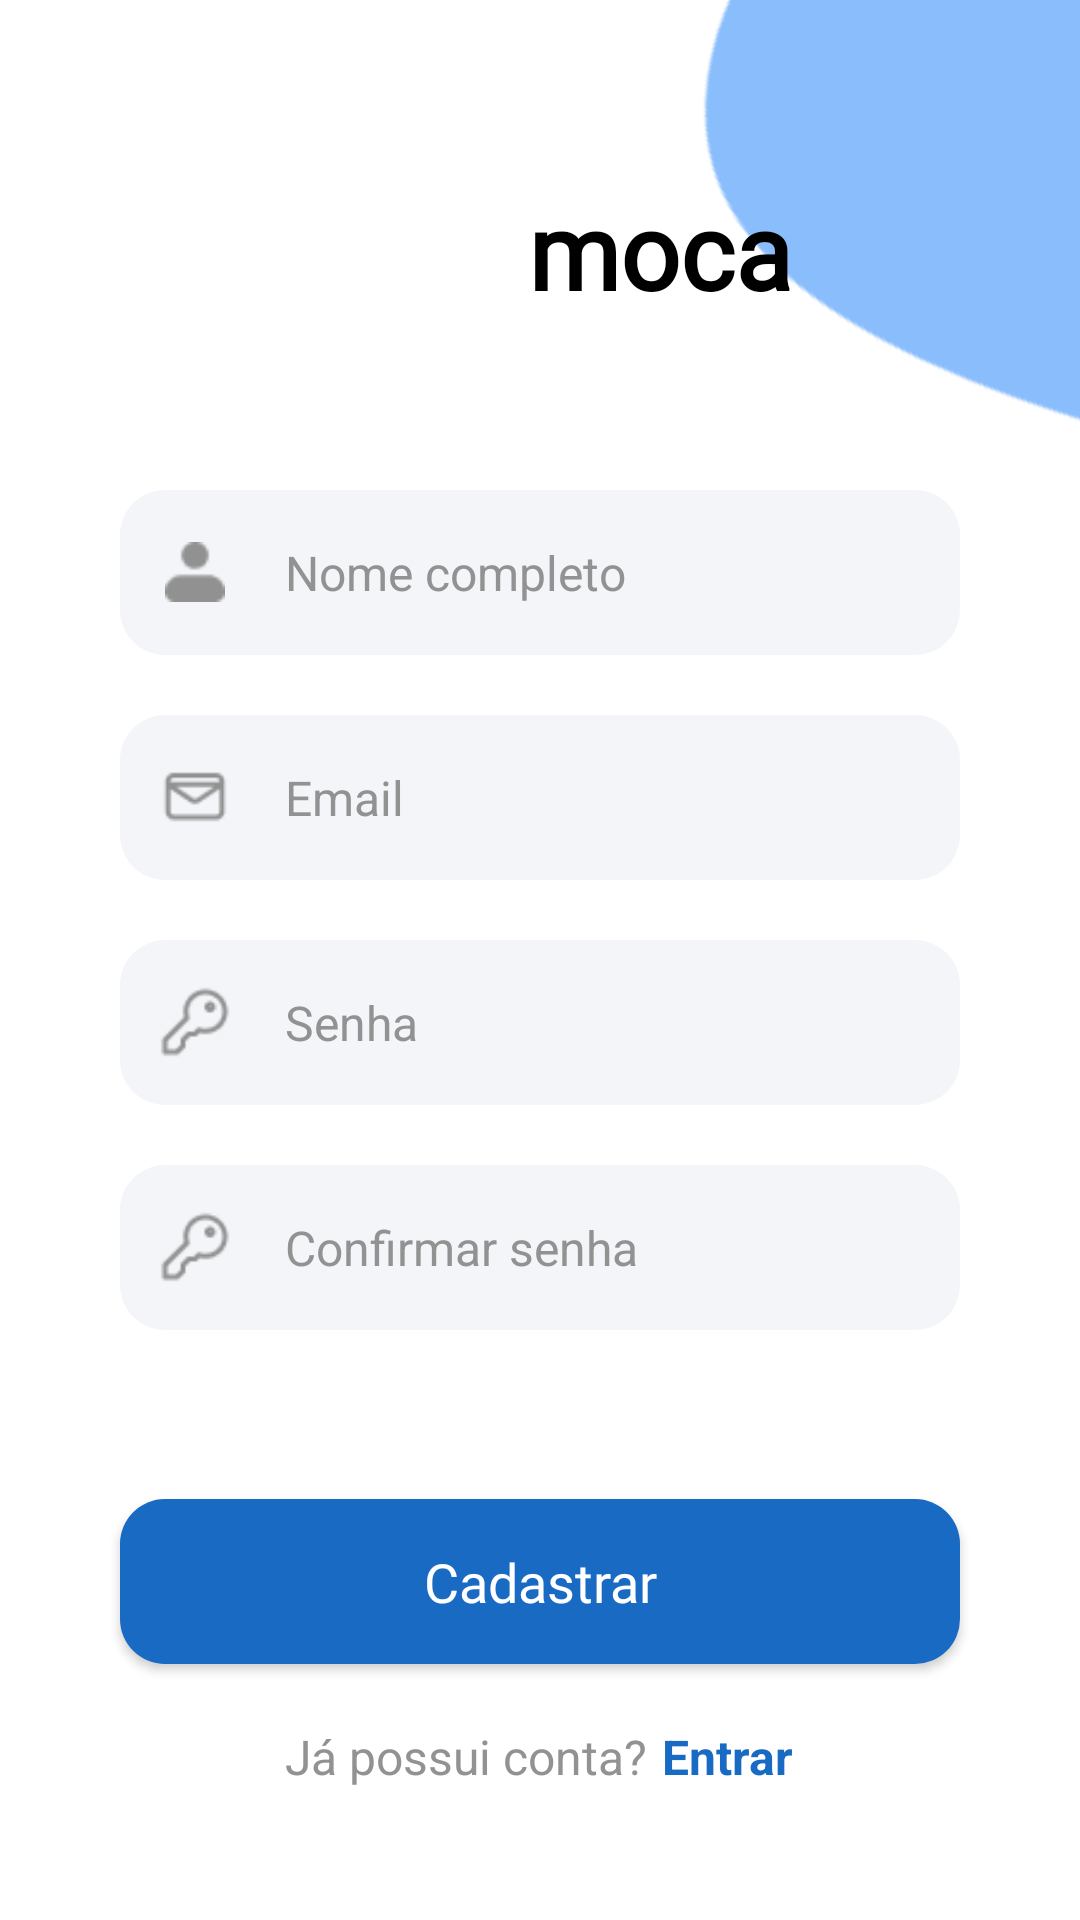

Locate icon controls on the screen. Image size 1080px x 1920px, boxes as (x1, y1, x2, y2).
chave: (161, 988, 229, 1056), (161, 1213, 229, 1281)
